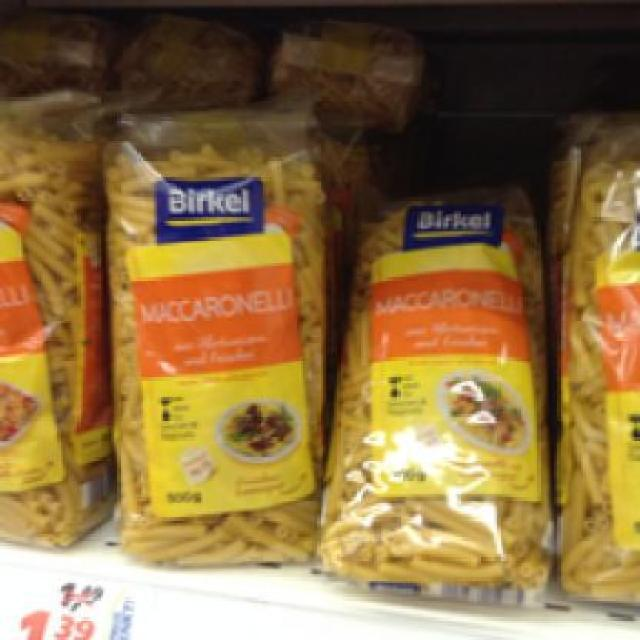Pasta: (100, 105, 326, 558), (317, 180, 554, 594), (0, 90, 106, 544), (540, 117, 637, 603)
